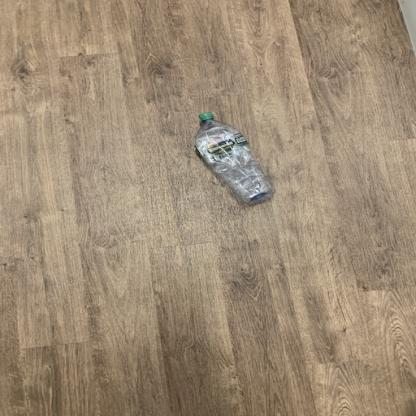trash: (190, 111, 279, 205)
